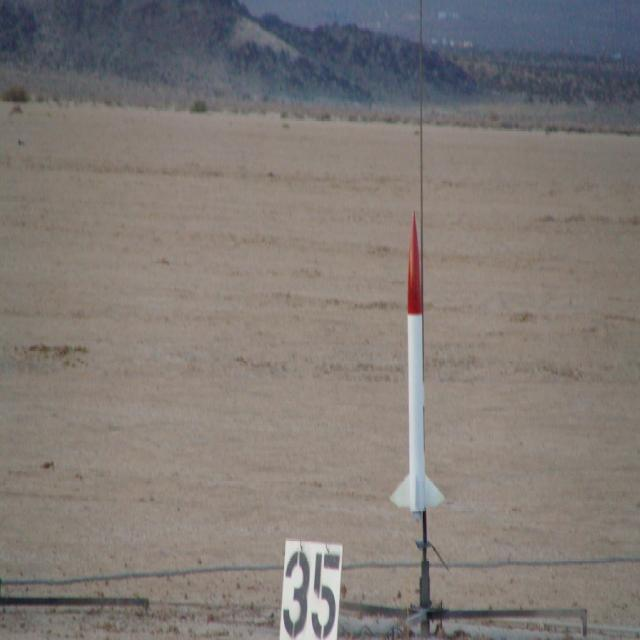missile: (391, 209, 445, 522)
